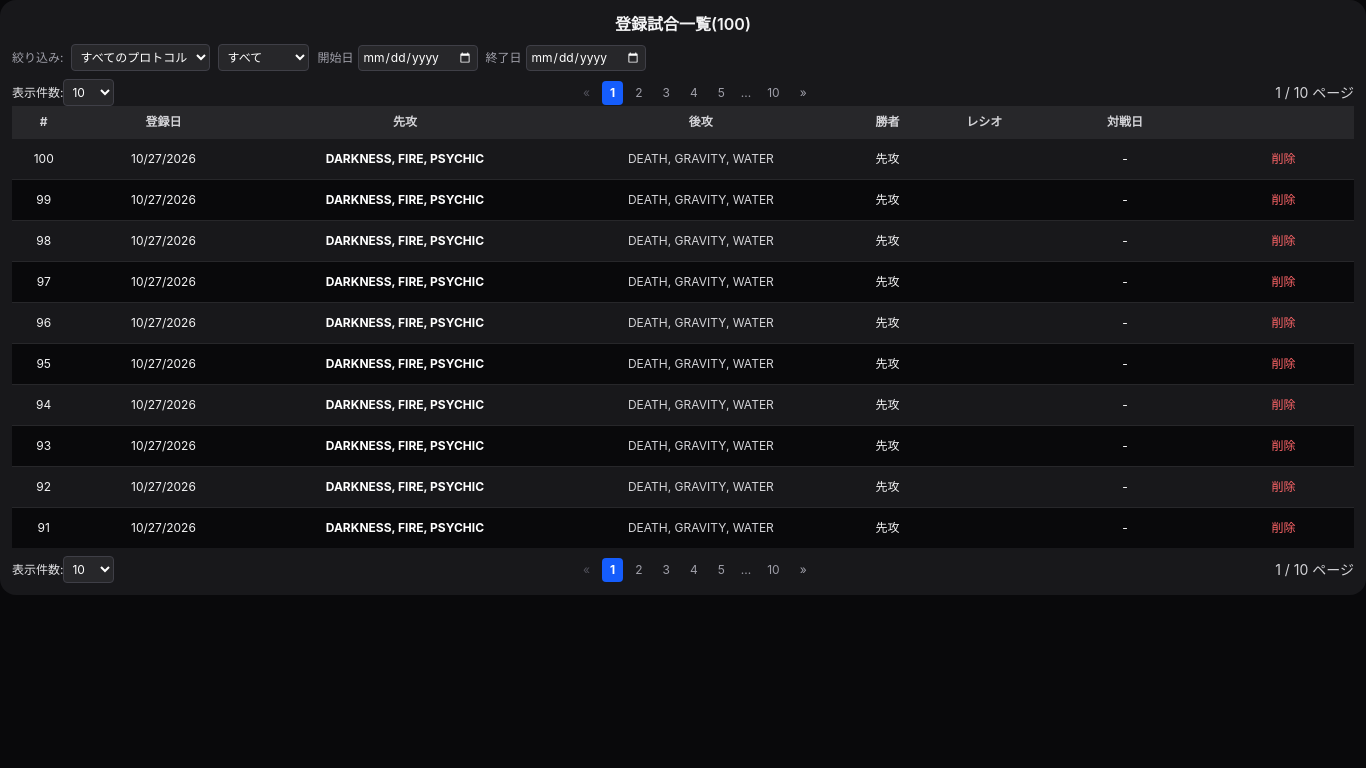
Test: MatchList › pagination – pageNumbers generation › pageNumbers[0] === 2 のとき先頭 ... は表示しない（1を直接見せる）
What coordinates should you click on to do the following:
click the 1st button "4"
I would click on:
 (694, 92)
Its box is [682,80,706,104].
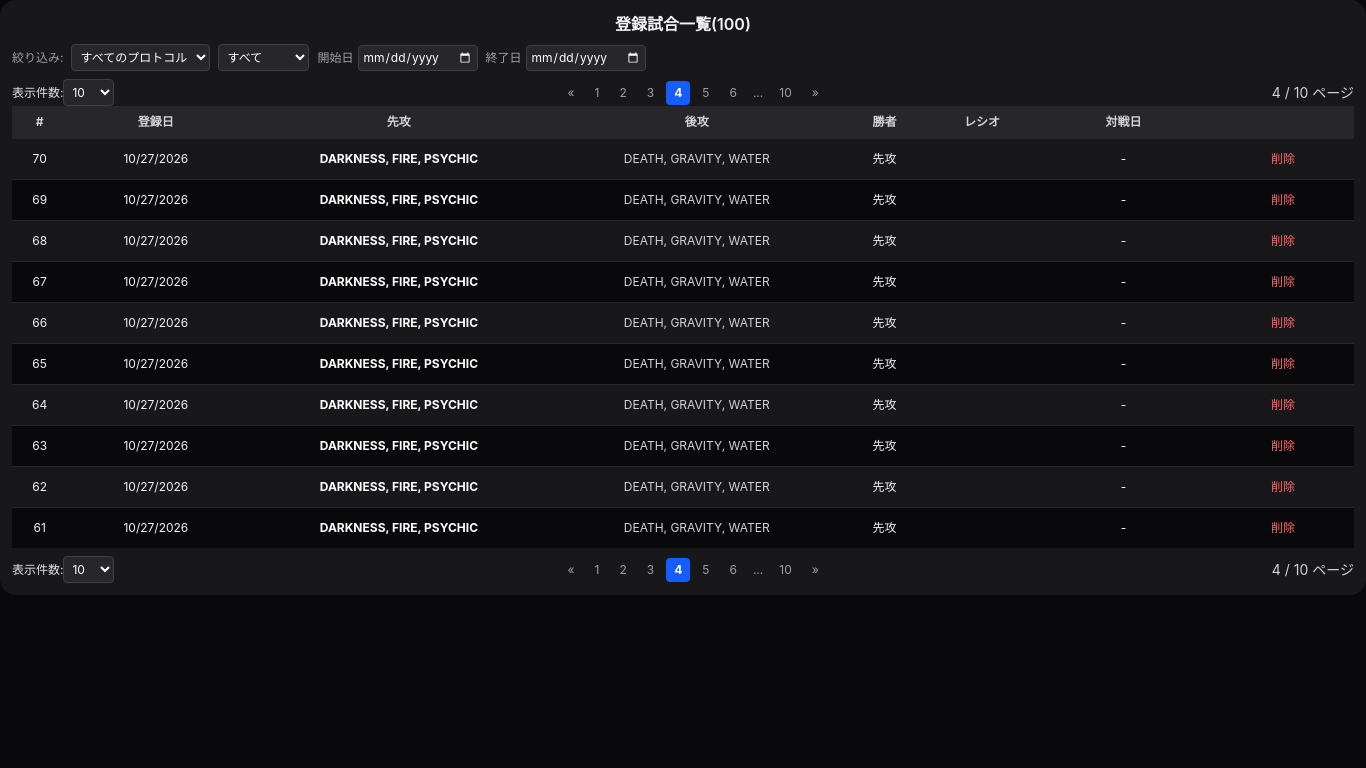
Check: the text "..." is shown 2 times, box [753,84,763,100]; [753,562,763,576]
Check: the number of buttons "1" is 2, box [587,80,608,104]; [587,558,608,582]
